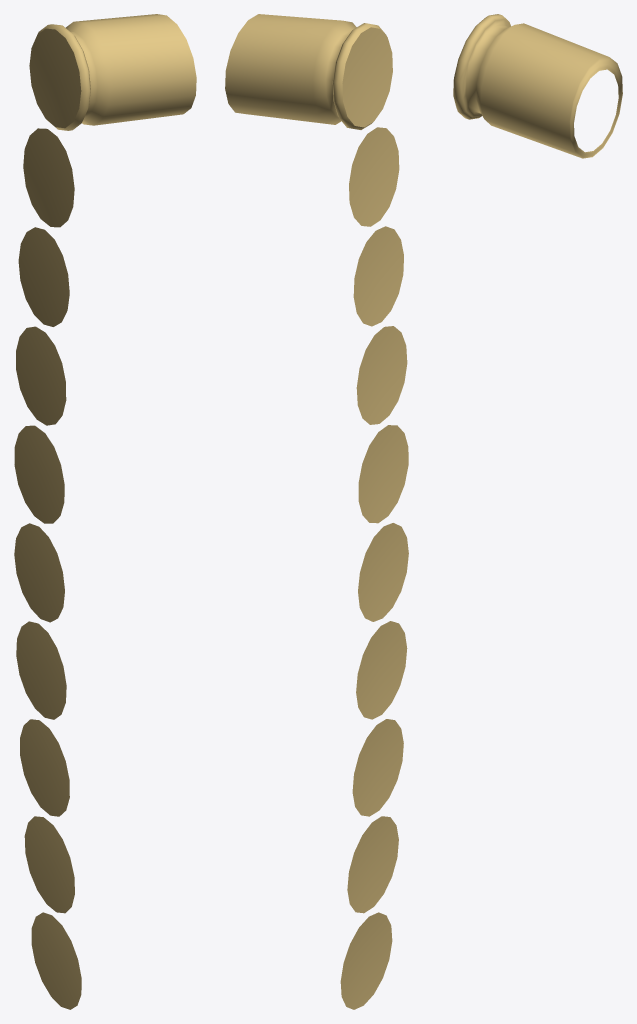
Rendered from spent_casing_763x25mm.glb.
3 renders of one model, left to right at view 1: azimuth 30°, elevation 25°; view 2: azimuth 150°, elevation 25°; view 3: azimuth 330°, elevation 25°, orthographic.
Parts seen in each view (by area): view 1: spent_casing_763x25mm; view 2: spent_casing_763x25mm; view 3: spent_casing_763x25mm.
Boxes of the visible parts, x1=… form: spent_casing_763x25mm: x1=14, y1=14, x2=196, y2=1009; spent_casing_763x25mm: x1=225, y1=14, x2=408, y2=1009; spent_casing_763x25mm: x1=453, y1=14, x2=622, y2=158.
Bounding box in the file's own units: 0.0149 × 0.1057 × 0.0106.
